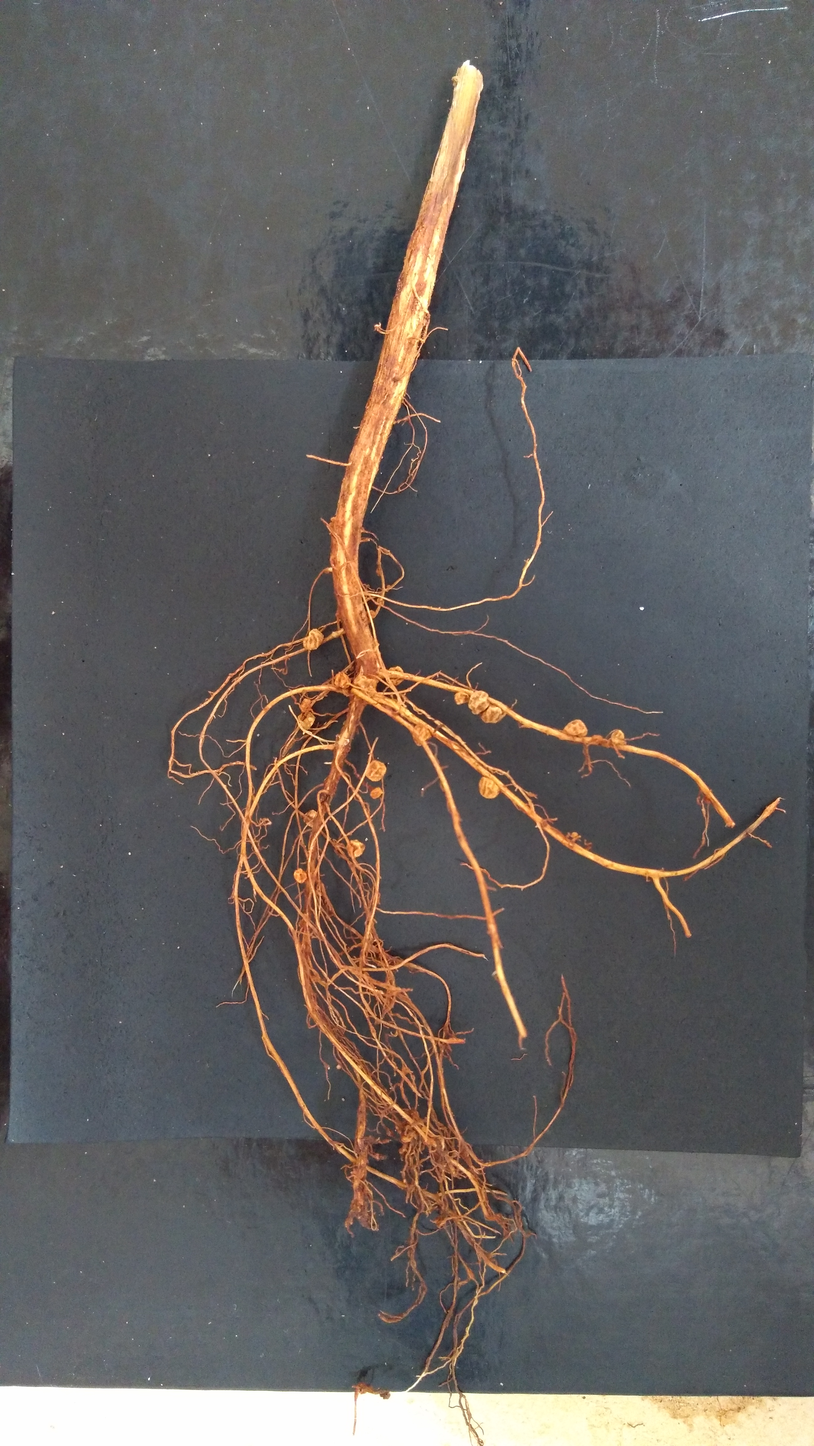nodule: (355, 649, 379, 678), (476, 775, 502, 801), (466, 689, 491, 716), (479, 703, 508, 725), (364, 758, 388, 783), (411, 722, 434, 748), (352, 672, 377, 695), (563, 718, 590, 739), (302, 627, 324, 651), (385, 664, 405, 686), (607, 727, 629, 747), (346, 838, 366, 858), (333, 671, 352, 690), (297, 711, 316, 730), (302, 808, 318, 829), (292, 866, 308, 884), (453, 690, 470, 706), (369, 786, 383, 802), (299, 698, 312, 711), (366, 609, 377, 620), (570, 830, 579, 839)
